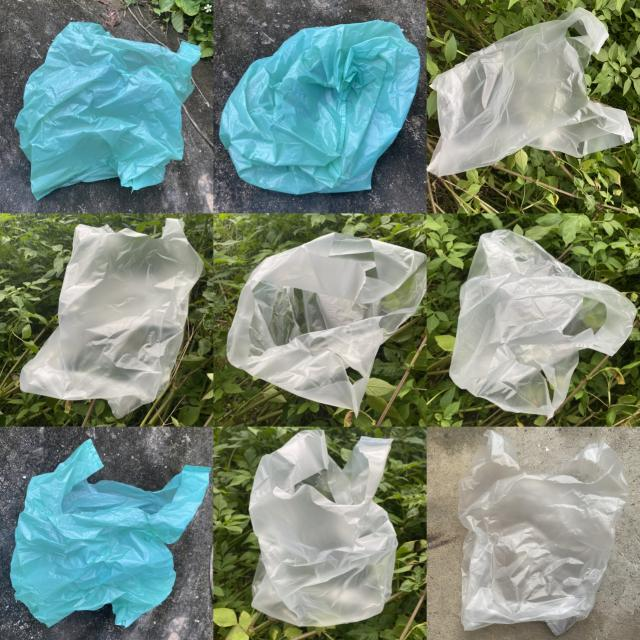Single-layer Plastic: (10, 440, 210, 627), (20, 219, 202, 418), (228, 232, 426, 414), (459, 430, 630, 635), (450, 230, 636, 418), (220, 20, 420, 194), (428, 8, 634, 176), (15, 22, 200, 199), (250, 430, 398, 626)
